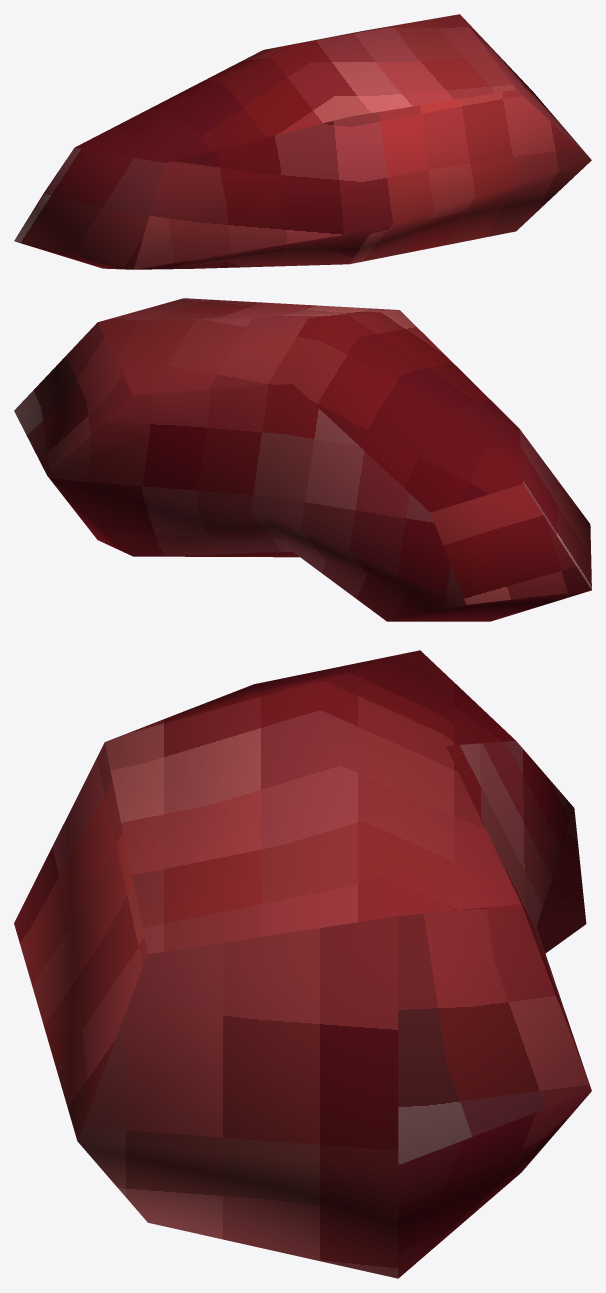
Rendered from gore1.FBX.
The picture shows the model from 3 angles, top to bottom: view 1: azimuth 30°, elevation 25°; view 2: azimuth 150°, elevation 25°; view 3: azimuth 270°, elevation 25°; orthographic projection. The views are drawn at different scales.
Parts seen in each view (by area): view 1: Object001; view 2: Object001; view 3: Object001.
Boxes of the visible parts, left/top/right/bottom form: Object001: left=14, top=14, right=591, bottom=269; Object001: left=14, top=298, right=591, bottom=621; Object001: left=14, top=650, right=591, bottom=1278.
Size of the model in its own units: 27.12 by 11.26 by 13.94.
Materials: 1 (1 with a texture image).
